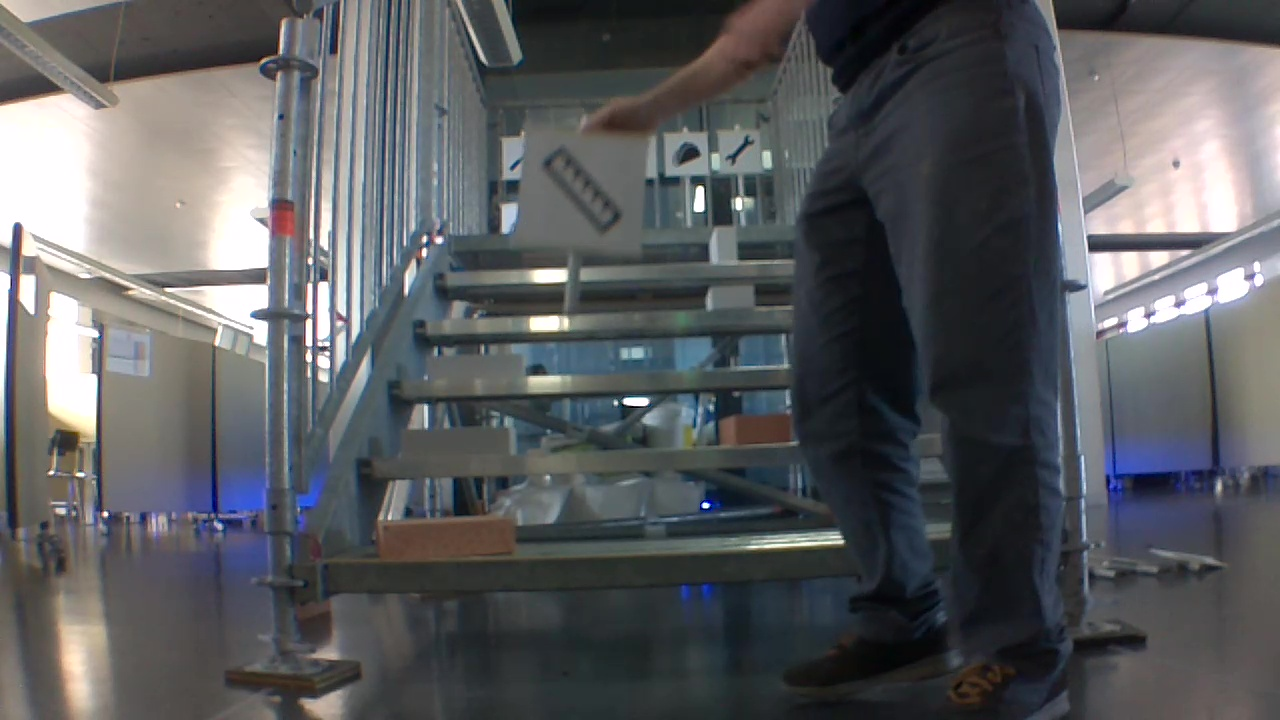brick: (382, 510, 518, 560), (707, 408, 795, 449), (404, 421, 507, 453), (420, 350, 522, 379), (703, 277, 761, 309), (710, 217, 734, 262)
ruler: (535, 146, 629, 232)
taco: (678, 141, 704, 166)
wrench: (724, 133, 754, 170)
